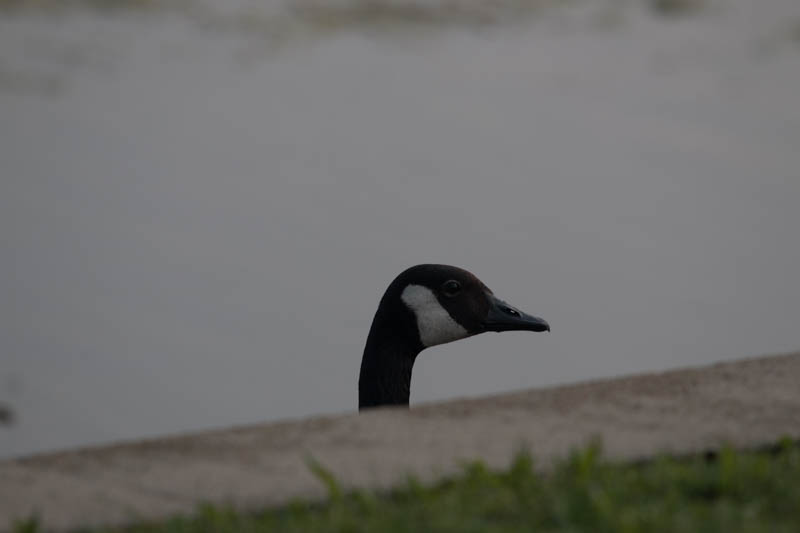goose-head: (375, 263, 550, 350)
